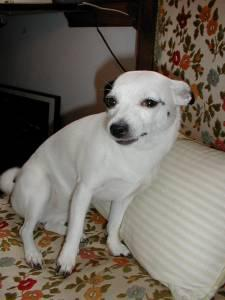dog: (102, 68, 193, 143)
